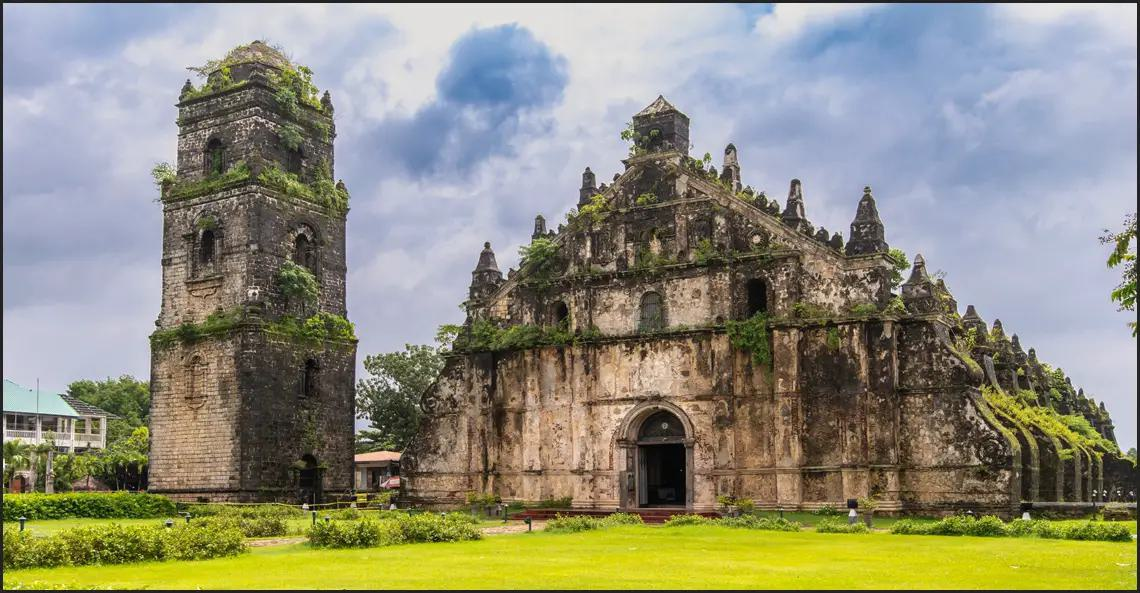paoay_church_paoay_ilocos_norte: (139, 33, 1044, 536)
vegetation_damage: (256, 164, 356, 211), (269, 305, 364, 352), (451, 313, 546, 356), (148, 312, 252, 347), (723, 305, 773, 367), (169, 164, 250, 197), (573, 188, 613, 234), (520, 234, 566, 272), (277, 255, 322, 293)
